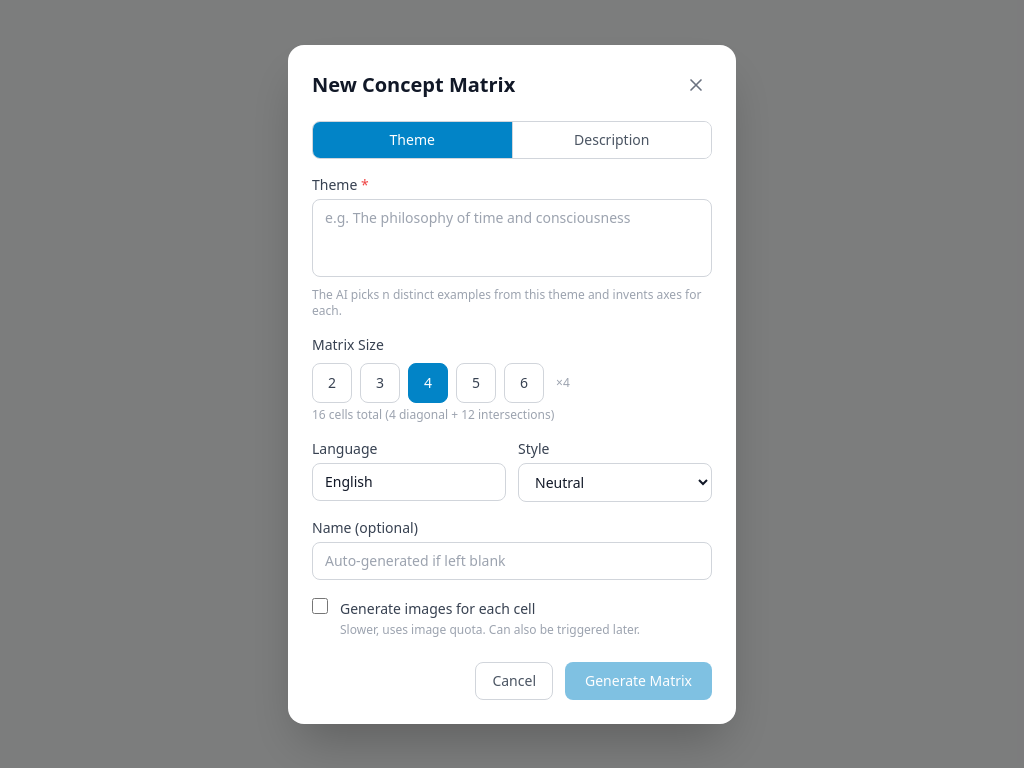
Test: NewMatrixModal — mode toggle visibility › switches back to Theme input when Theme tab is clicked
What coordinates should you click on to do the following:
click the button "Description"
I would click on:
 (611, 140)
Its box is x1=512 y1=122 x2=711 y2=158.
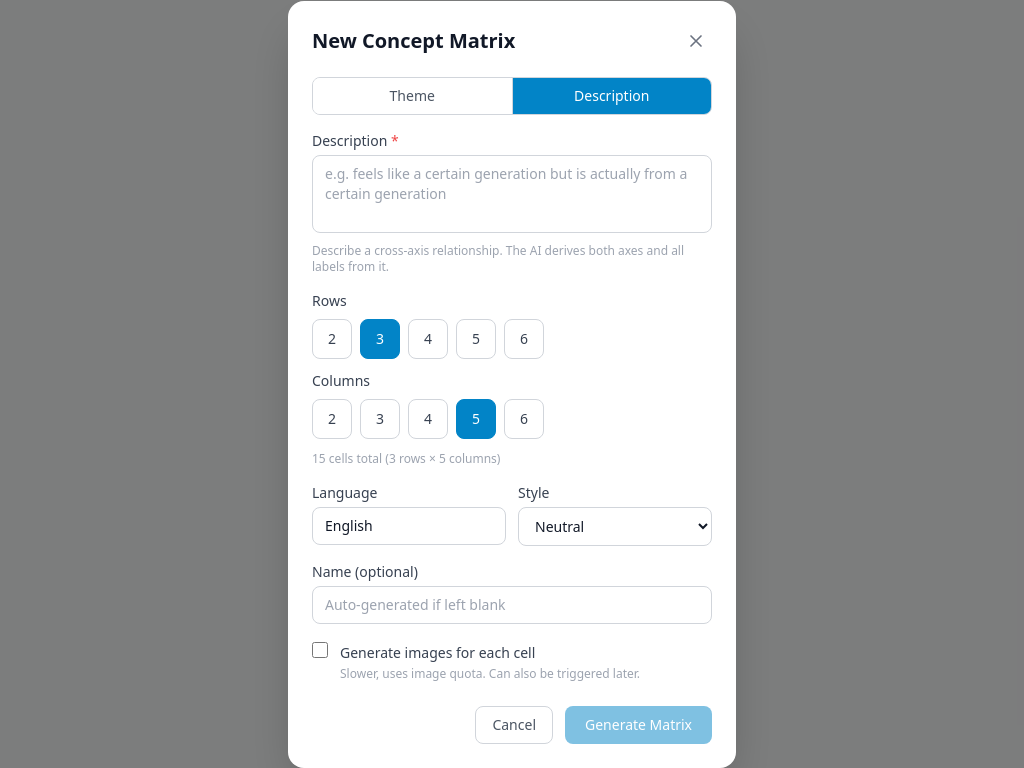
What coordinates should you click on to do the following:
click the button "Theme"
I would click on:
 (412, 96)
Its box is x1=313 y1=78 x2=512 y2=114.
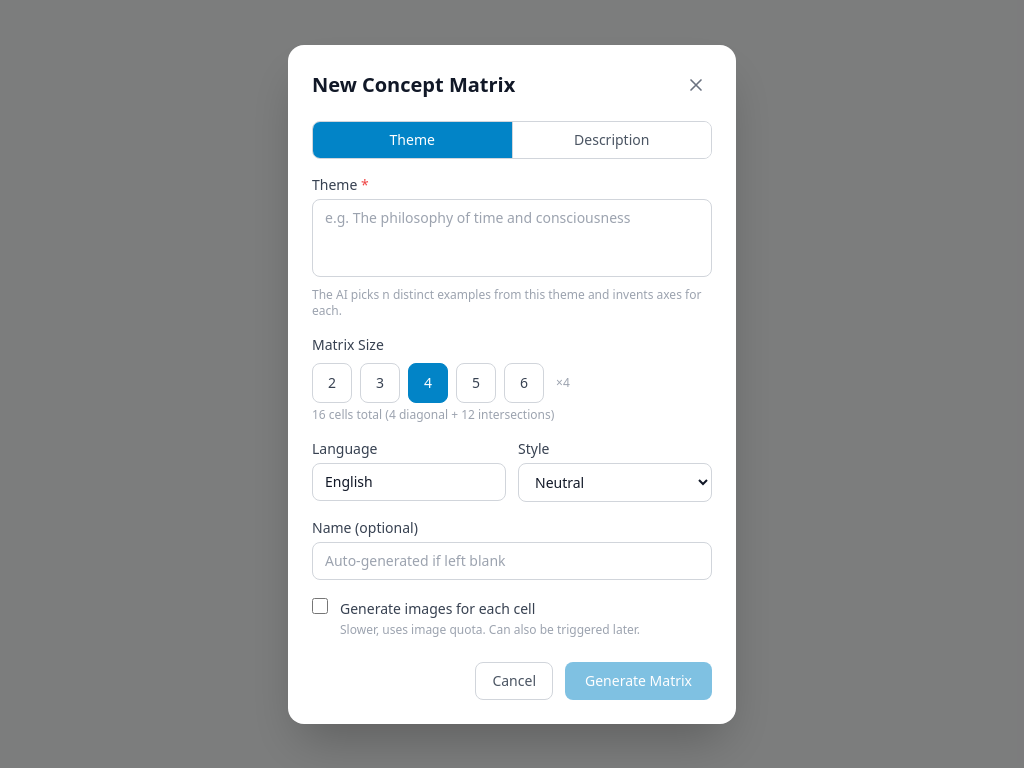
Check: the field with placeholder "feels like a certain" is not shown
Check: the text box with placeholder "e.g. The philosophy of time and consciousness" is shown, box x1=312 y1=198 x2=712 y2=276
